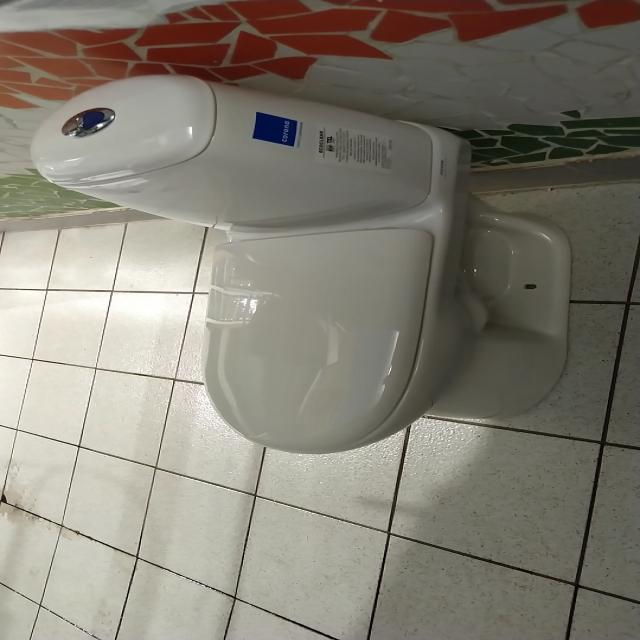toilet: (26, 67, 584, 458)
